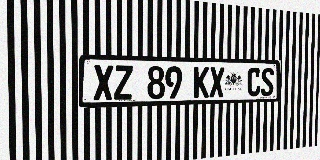8: (147, 66, 165, 99)
9: (165, 66, 182, 99)
C: (247, 67, 261, 96)
K: (193, 67, 209, 98)
S: (261, 68, 274, 96)
X: (93, 65, 113, 100), (209, 67, 224, 97)
Z: (114, 65, 133, 100)
